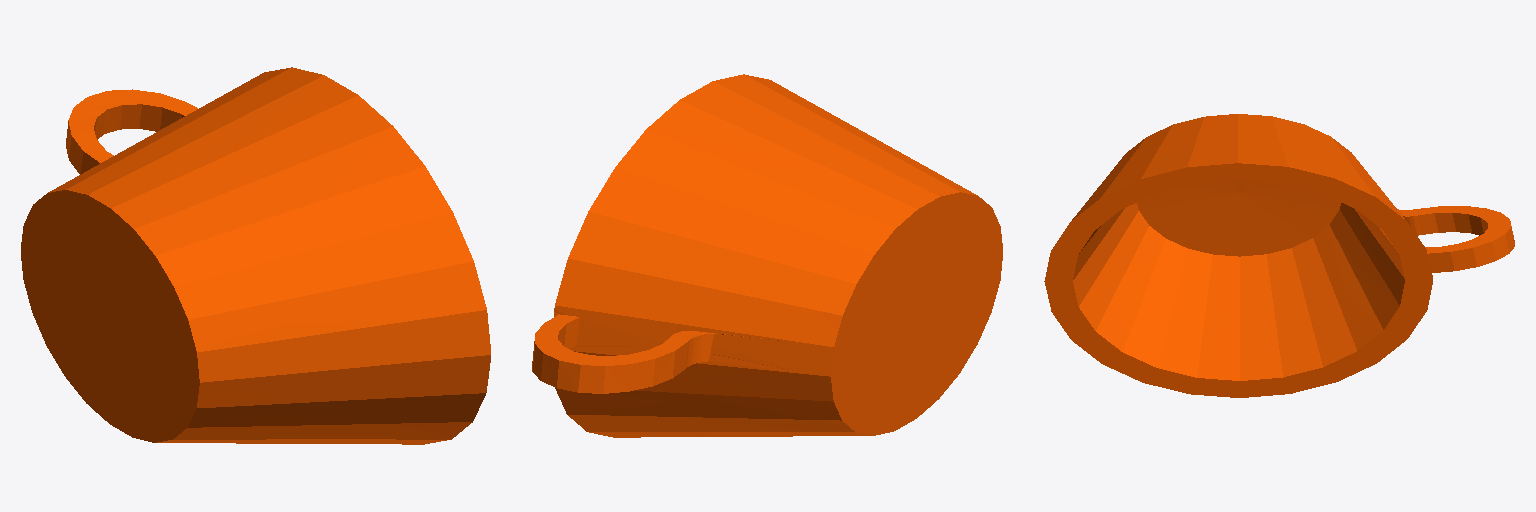
URDF robot description (2024-09-16_6_Mug_8b):
<?xml version="1.0" ?>
<robot name="2024-09-16_6_Mug_8b">
   <material name="obj_color">
      <color rgba="1.0 0.423529411765 0.0392156862745 1.0"/>
   </material>
   <link name="top">
      <inertial>
         <origin rpy="-0.001331655479384889 -0.001229308551697922 -0.0006587559776881535" xyz="0.0448464662569111 0.08052612797895224 0.05238510690916639"/>
         <mass value="-0.4732021904028145"/>
         <inertia ixx="-0.001331342082792262" ixy="1.428079928000023e-05" ixz="1.204601820404337e-06" iyy="-0.0006591956556558534" iyz="8.797075674646961e-06" izz="-0.001229182270322849"/>
      </inertial>
      <visual>
         <origin rpy="0 0 0" xyz="0 0 0"/>
         <geometry>
            <mesh filename="top_watertight_tiny.stl" scale="1 1 1"/>
         </geometry>
         <material name="obj_color"/>
      </visual>
      <collision>
         <origin rpy="0 0 0" xyz="0 0 0"/>
         <geometry>
            <mesh filename="top_watertight_tiny.obj" scale="1 1 1"/>
         </geometry>
      </collision>
   </link>
   <link name="bottom">
      <inertial>
         <origin rpy="1.633333333199431e-08 1.633333333199431e-08 1.633333333362855e-08" xyz="0.3464080000000008 0.3464080000000008 0.3464080000000008"/>
         <mass value="0.0009800000000000017"/>
         <inertia ixx="1.633333333253906e-08" ixy="5.447480642029219e-19" ixz="5.447480642029219e-19" iyy="1.633333333253906e-08" iyz="5.447480642029219e-19" izz="1.633333333253906e-08"/>
      </inertial>
      <visual>
         <origin rpy="0 0 0" xyz="0 0 0"/>
         <geometry>
            <mesh filename="bottom_watertight_tiny.stl" scale="1 1 1"/>
         </geometry>
         <material name="obj_color"/>
      </visual>
   </link>
   <link name="world"/>
   <joint name="world_to_base" type="fixed">
      <origin xyz="0 0 0"/>
      <axis xyz="0 0 0"/>
      <parent link="world"/>
      <child link="bottom"/>
   </joint>
   <joint name="rotation" type="revolute">
      <origin xyz="0 0 0"/>
      <axis xyz="0 0 -1"/>
      <parent link="bottom"/>
      <child link="top"/>
      <dynamics damping="1.0" friction="1.0"/>
      <limit effort="0.1" velocity="0.1" lower="0" upper="0.001"/>
   </joint>
</robot>

--- What the picture shows (computed from the rendered views, not written in the file) ---
Views: 3 orthographic renders of the robot side by side, from view 1: azimuth 30°, elevation 25°; view 2: azimuth 150°, elevation 25°; view 3: azimuth 270°, elevation 25°.
Model 2024-09-16_6_Mug_8b with 3 links and 2 joints (1 revolute, 1 fixed), rooted at world, posed every joint at zero.
Visible links, largest first — view 1: top; view 2: top; view 3: top.
Boxes of the visible links, x1,y1,x2,y2 form: top: [21, 67, 490, 444]; top: [532, 74, 1002, 437]; top: [1044, 114, 1514, 397].
Bounding box of the posed robot: 0.0838 × 0.1895 × 0.1044 m (x, y, z).
1 mesh visuals loaded from 2 distinct referenced files (1 binary STL); not drawn: 1 (reference not matched to a file when rendering).
